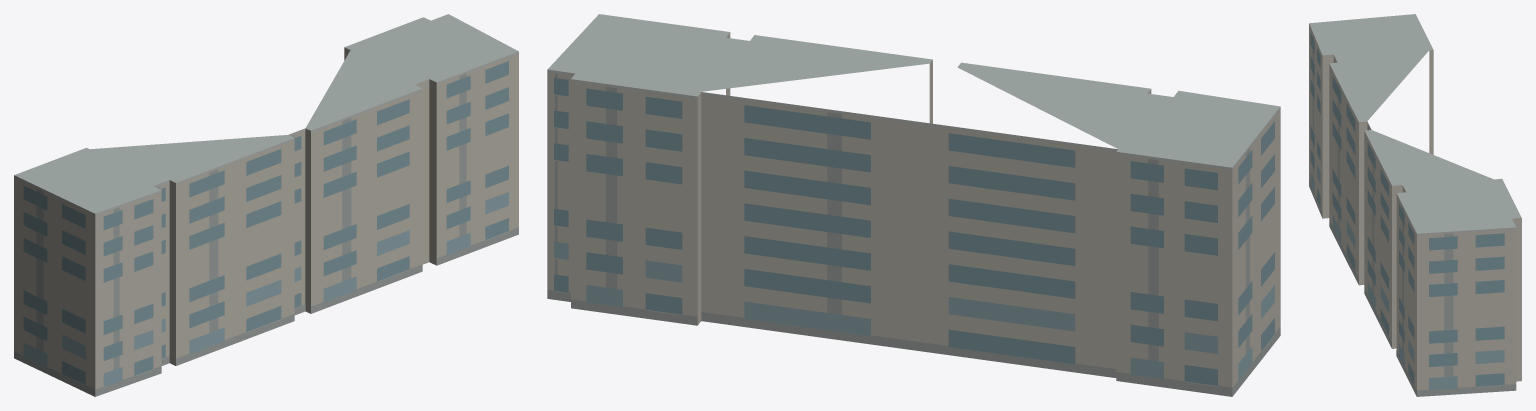
File: survey-upis-32696845.glb
3 renders of one model, left to right at view 1: azimuth 30°, elevation 25°; view 2: azimuth 150°, elevation 25°; view 3: azimuth 270°, elevation 25°, orthographic. The views are drawn at different scales.
Parts seen in each view (by area): view 1: survey-upis-32696845.tmp; view 2: survey-upis-32696845.tmp; view 3: survey-upis-32696845.tmp.
Boxes of the visible parts, x1,y1,x2,y2 form: survey-upis-32696845.tmp: (14, 14, 518, 396); survey-upis-32696845.tmp: (547, 14, 1280, 396); survey-upis-32696845.tmp: (1309, 14, 1521, 396).
Bounding box in the file's own units: 57.76 × 20 × 23.64.
